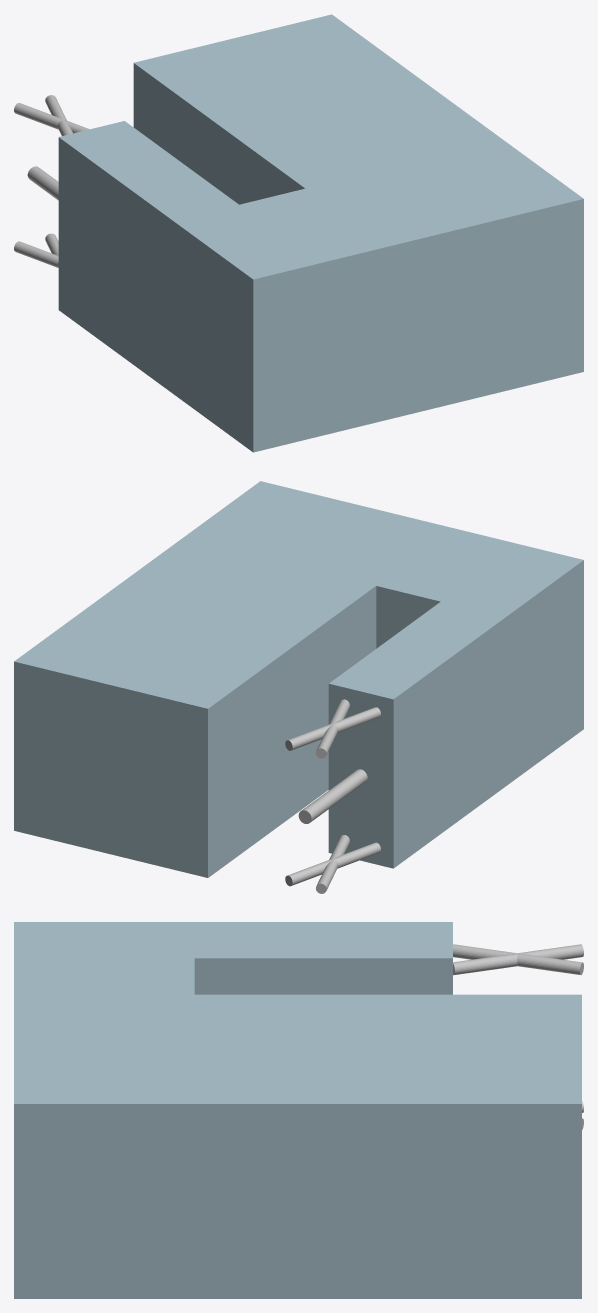
The model's file is onebkc.glb.
3 renders of one model, top to bottom at view 1: azimuth 30°, elevation 25°; view 2: azimuth 150°, elevation 25°; view 3: azimuth 270°, elevation 25°, orthographic. The views are drawn at different scales.
Visible parts, largest first — view 1: world; view 2: world; view 3: world.
Boxes of the visible parts, <box> form: world: <box>14,14,583,452</box>; world: <box>14,481,583,893</box>; world: <box>14,922,583,1298</box>.
Bounding box in the file's own units: 100 × 50 × 132.
